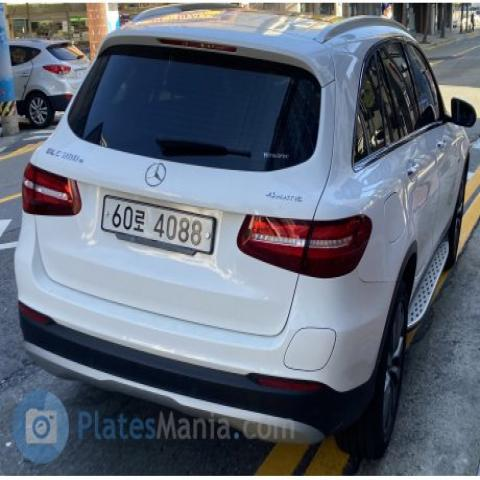LP: (96, 180, 222, 268)
